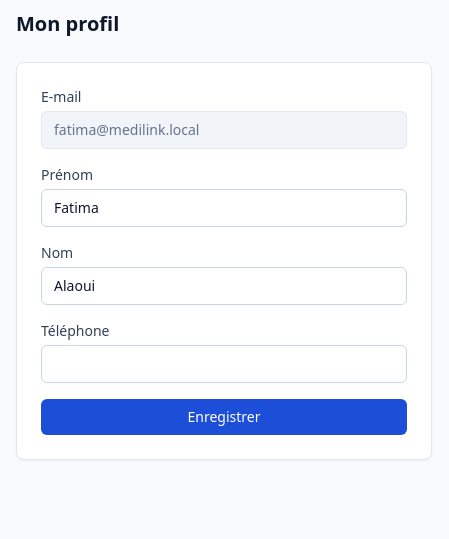
Test: PatientProfilePage › enregistre les modifications et affiche un message de succès
In the field labelled "Téléphone": (224, 364) [41,345,407,383], type "0600000000"
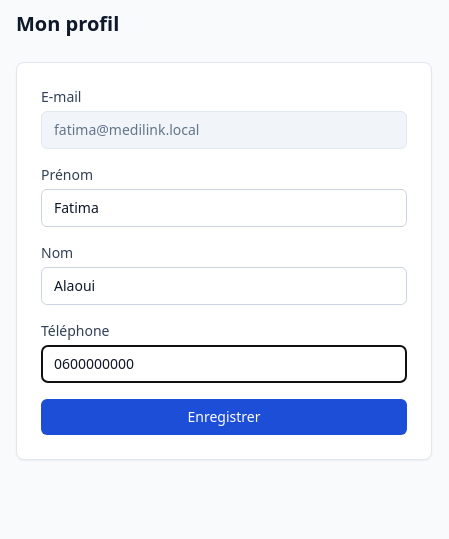
Click the button "Enregistrer": (224, 417) [41,399,407,435]
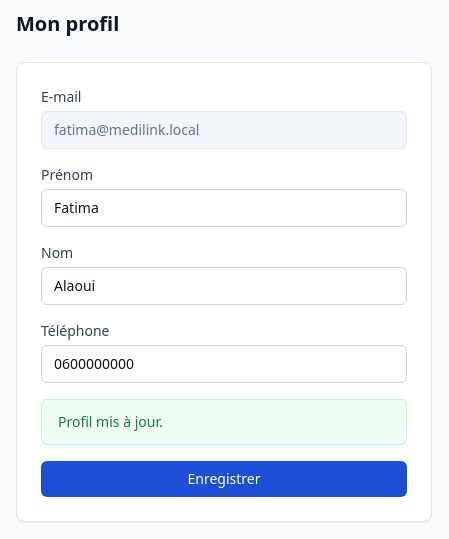
Check: the text "Profil mis à jour." is shown, box [41,399,407,445]
